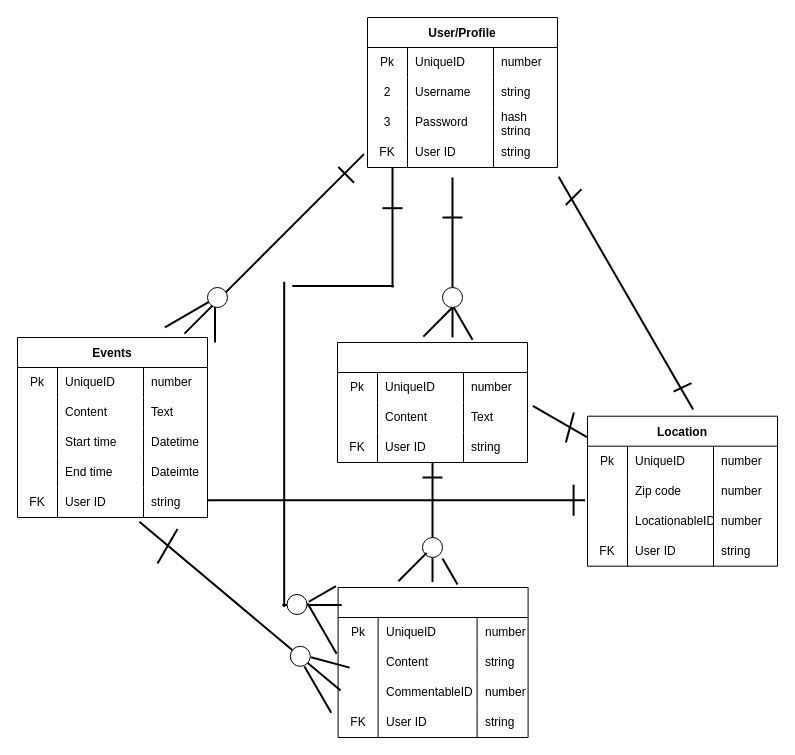
The diagram is 795 pixels wide and 755 high, and some of its shapes have lost their labels. Here are the shapes that lost their labels. From the top down, the box of each, then its label:
(336, 342, 528, 462): Posts/Alerts
(337, 586, 528, 738): Comments
